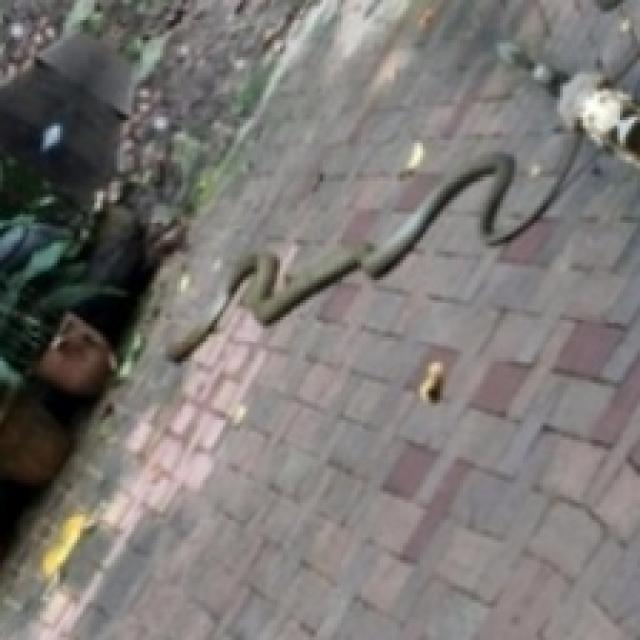king cobra: (166, 137, 580, 360)
